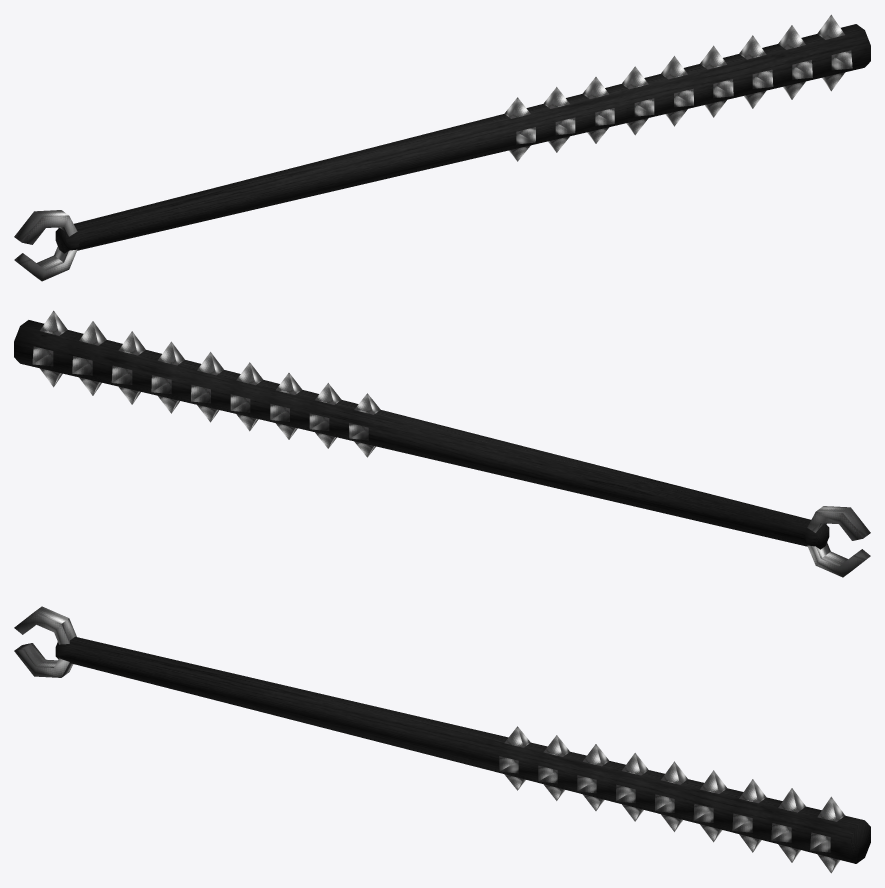
3 renders of one model, top to bottom at view 1: azimuth 30°, elevation 25°; view 2: azimuth 150°, elevation 25°; view 3: azimuth 330°, elevation 25°, orthographic.
Parts seen in each view (by area): view 1: it169; view 2: it169; view 3: it169.
Part boxes in pixels (<box>): it169: <box>14,14,870,281</box>; it169: <box>14,310,870,577</box>; it169: <box>14,606,870,873</box>.
Bounding box in the file's own units: 4.67 × 0.4087 × 0.4087.
Materials: 2 (2 with a texture image).
